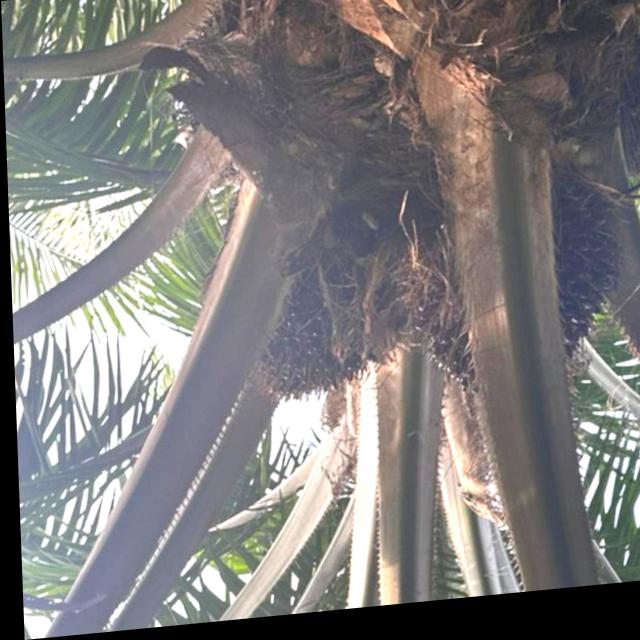unripe: (405, 162, 635, 418), (234, 213, 418, 425)
